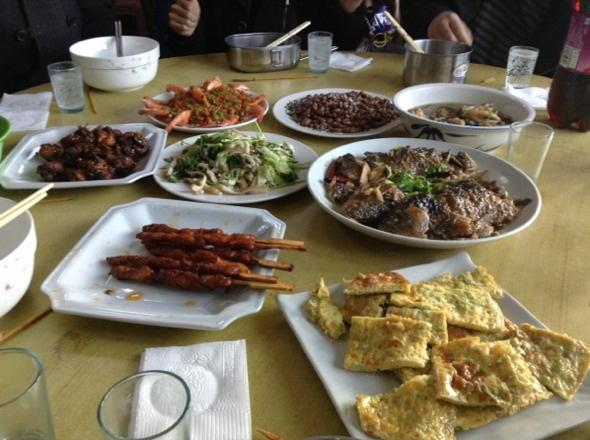food: (297, 259, 589, 423), (304, 126, 546, 249), (56, 202, 299, 306), (293, 263, 498, 377), (154, 120, 322, 201), (12, 112, 165, 191), (395, 76, 531, 153), (398, 265, 524, 335), (139, 69, 268, 136), (277, 77, 401, 138), (68, 27, 160, 92)
